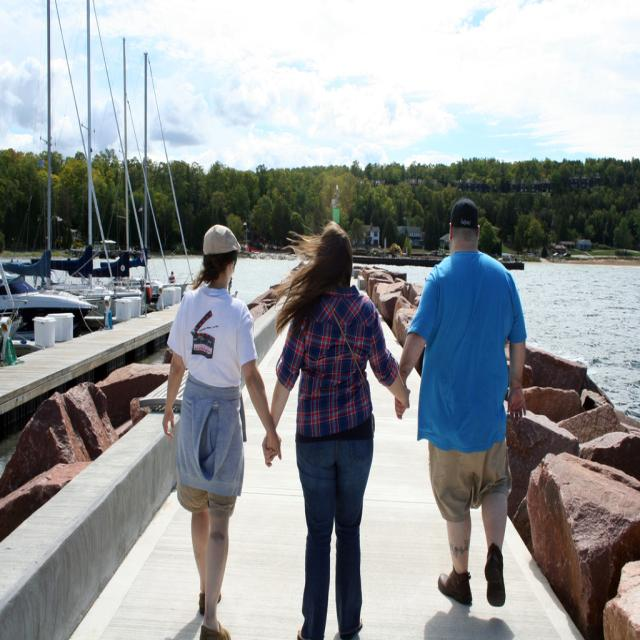Boat: (71, 47, 192, 310), (0, 5, 92, 338), (36, 0, 124, 322), (503, 254, 523, 270)
